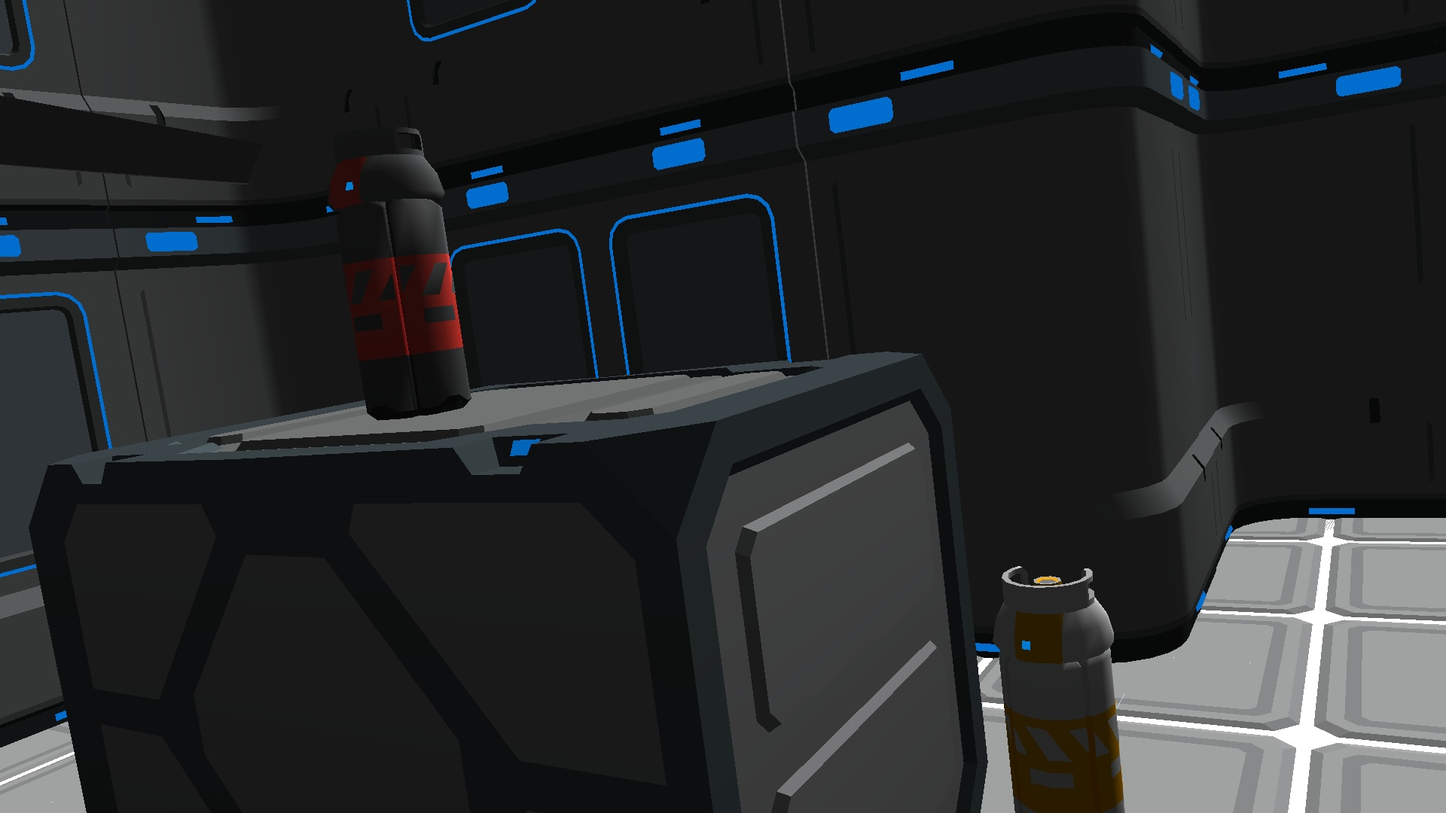red barrel: (327, 129, 472, 421)
yellow barrel: (993, 565, 1125, 813)
